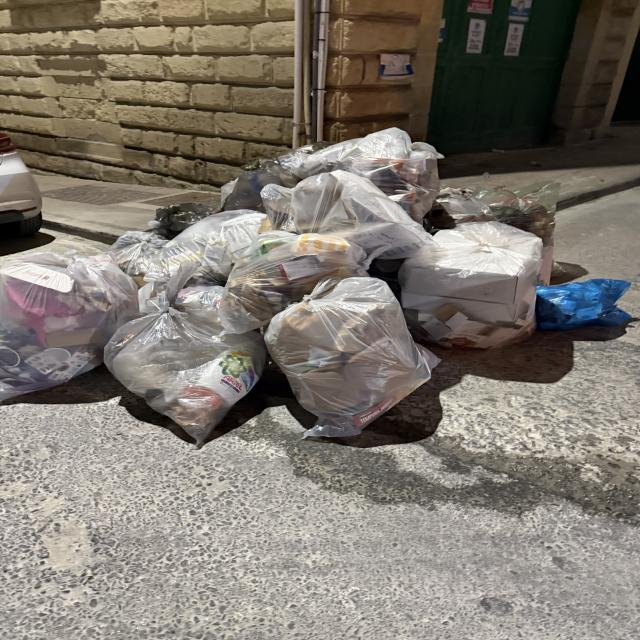Mixed Waste -Black Bags-: (144, 141, 338, 240)
Others Waste: (475, 181, 634, 332)
Recyclable Material -Grey Bags-: (1, 127, 541, 447)
